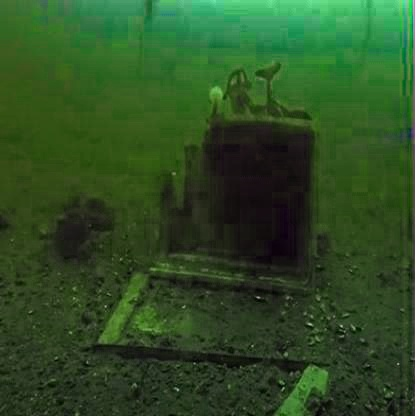misc: (193, 63, 314, 329)
